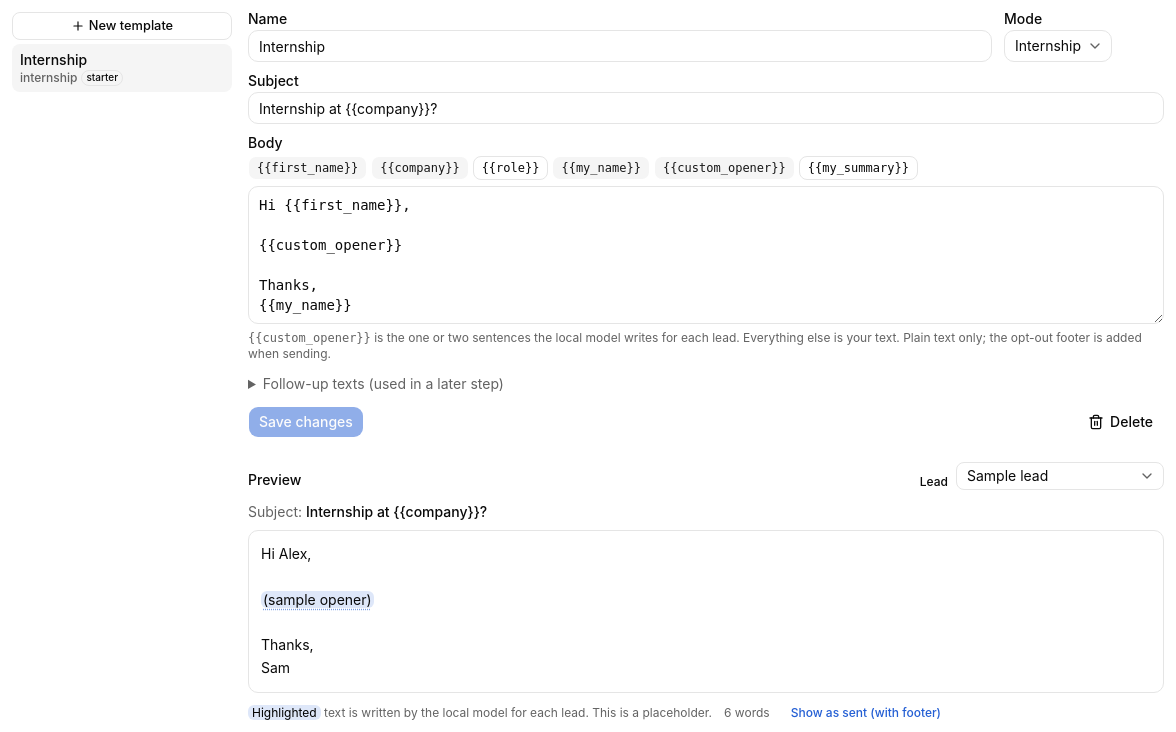
Test case: TemplatesPanel › merge-field chips insert at the cursor and the preview follows the edit
Step 1. Clear the text box labelled "Body" → {"x": 706, "y": 255}, box [248,186,1164,324]
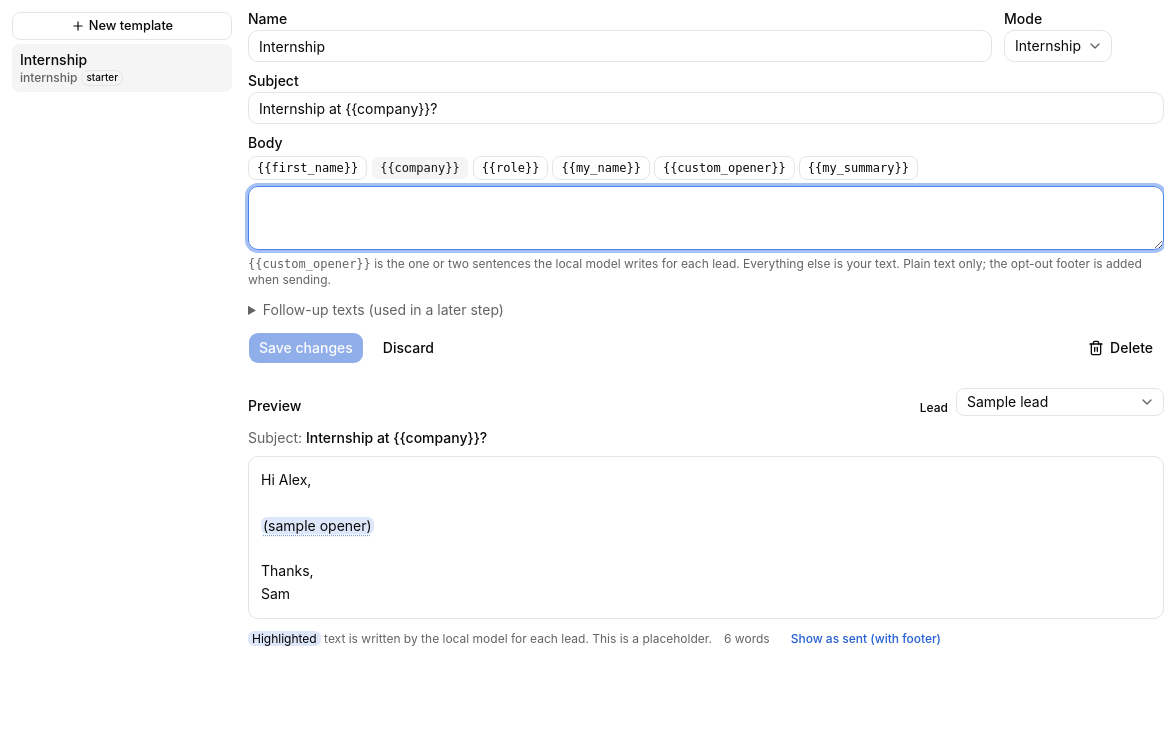
Step 2. Type "Hello " into the text box labelled "Body" → {"x": 706, "y": 218}, box [248,186,1164,250]
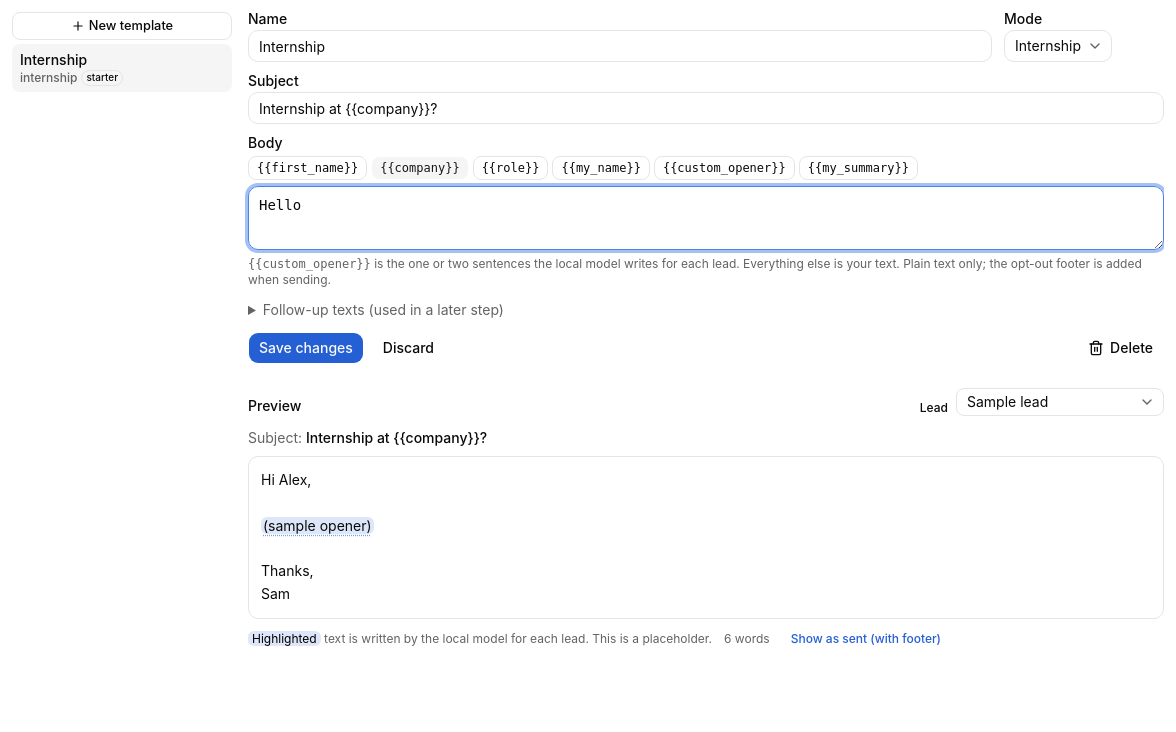
Step 3. Click the button with aria-label "Insert my_summary" → {"x": 858, "y": 168}, box [799,156,918,180]
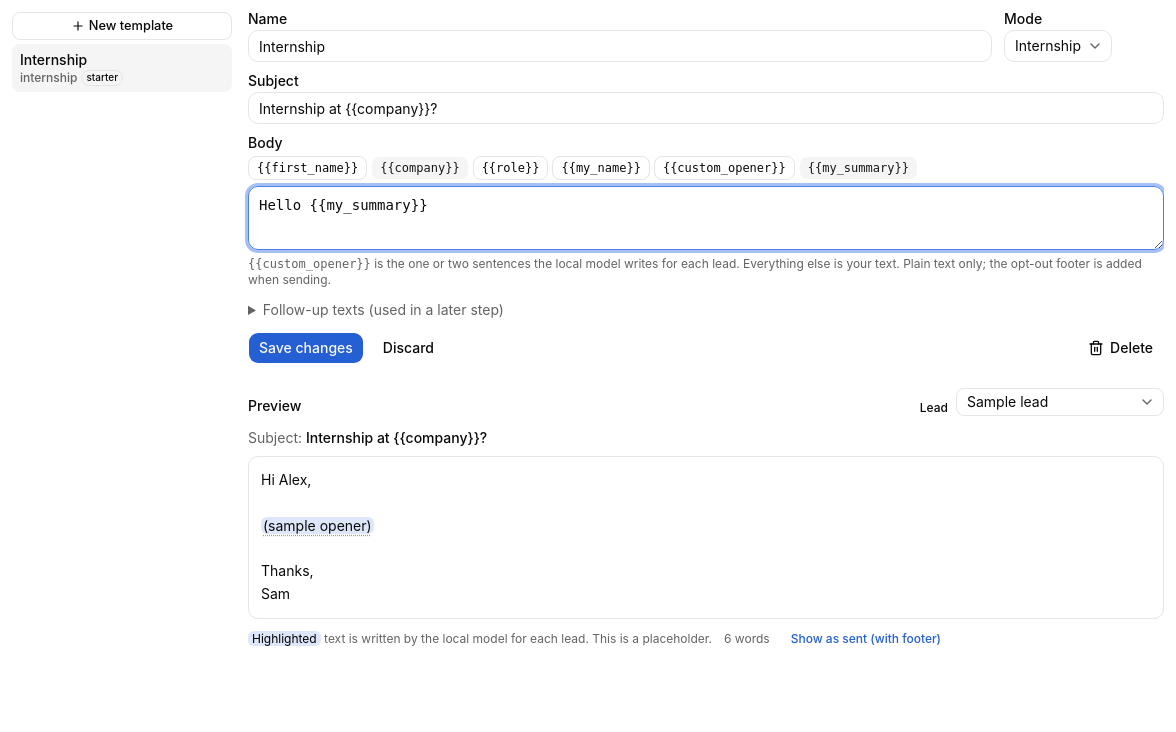
Step 4. Type keys " and {{{{custom_opener}}"
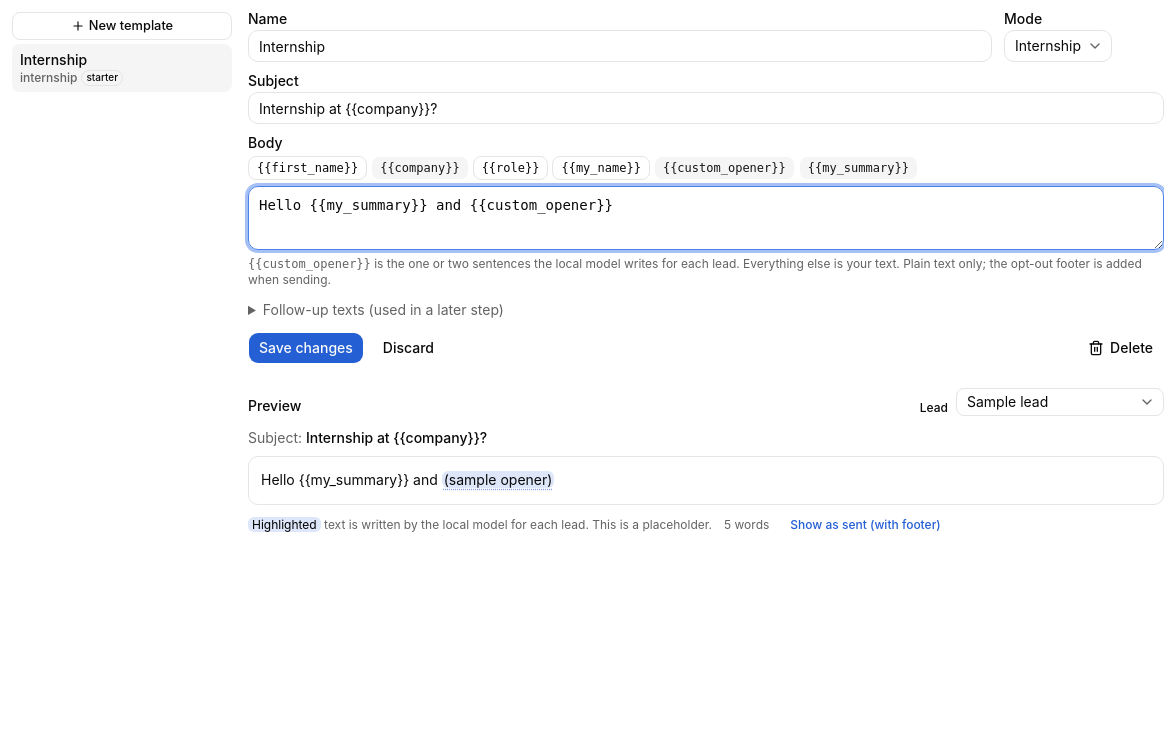
Expected: the text box labelled "Body" holds "Hello {{my_summary}} and {{custom_opener}}", [248,186,1164,250]
